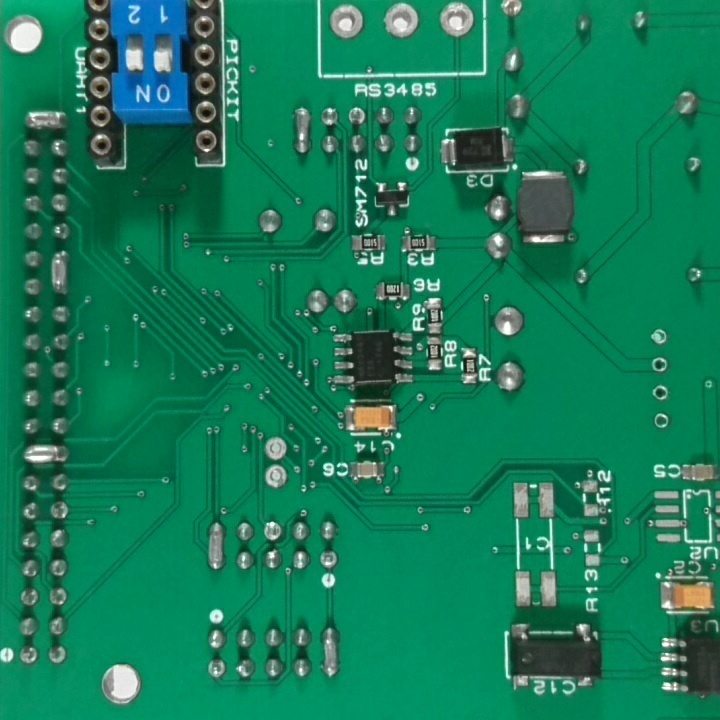F: (327, 1, 367, 42), (382, 1, 421, 43), (437, 3, 479, 41), (260, 463, 292, 495), (261, 433, 291, 461), (47, 498, 73, 526), (261, 519, 287, 546), (203, 655, 228, 683), (499, 1, 527, 24), (649, 351, 672, 379), (17, 643, 41, 669), (18, 585, 41, 612), (344, 104, 368, 129), (649, 322, 670, 350), (651, 409, 672, 434), (650, 380, 670, 406), (319, 546, 337, 569)
P: (316, 621, 346, 682), (199, 517, 230, 575), (16, 442, 75, 468), (291, 102, 316, 163), (21, 106, 72, 135), (47, 243, 72, 298)
